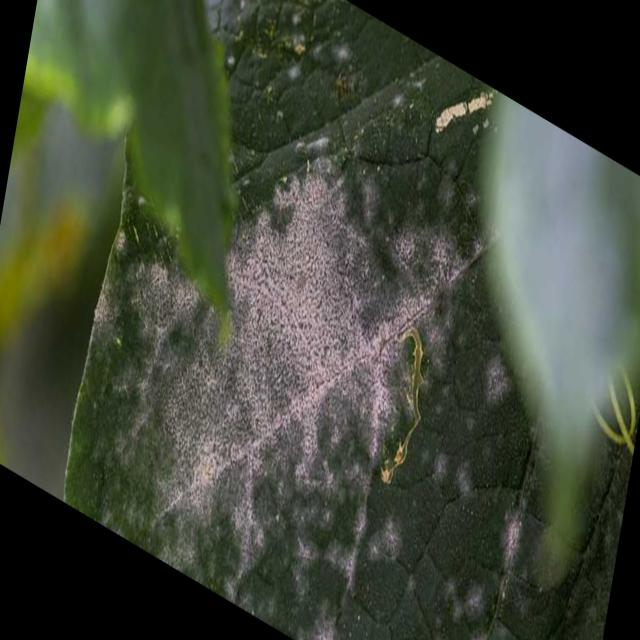Powdery Mildew: (114, 156, 485, 621)
